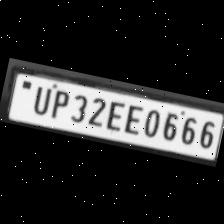0: (139, 104, 163, 138)
2: (82, 92, 108, 128)
3: (64, 88, 89, 124)
6: (193, 116, 218, 150), (157, 106, 180, 142), (176, 112, 198, 146)
E: (119, 100, 144, 134), (101, 97, 125, 131)
P: (46, 85, 71, 120)
U: (26, 82, 52, 116)
